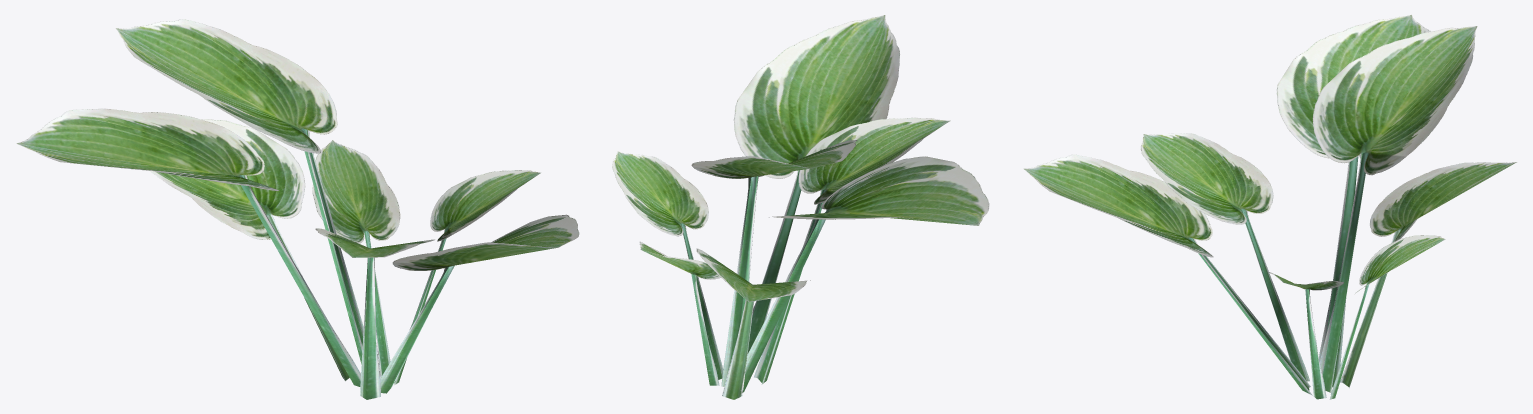
File: plant_small_wg_05R4.fbx
3 renders of one model, left to right at view 1: azimuth 30°, elevation 25°; view 2: azimuth 150°, elevation 25°; view 3: azimuth 270°, elevation 25°, orthographic. The views are drawn at different scales.
Parts seen in each view (by area): view 1: plant_small_wg_05R4; view 2: plant_small_wg_05R4; view 3: plant_small_wg_05R4.
Boxes of the visible parts, x1,y1,x2,y2 form: plant_small_wg_05R4: (16, 19, 579, 399); plant_small_wg_05R4: (612, 15, 989, 399); plant_small_wg_05R4: (1024, 15, 1516, 399).
Size of the model in its own units: 55.78 by 39.25 by 60.47.
